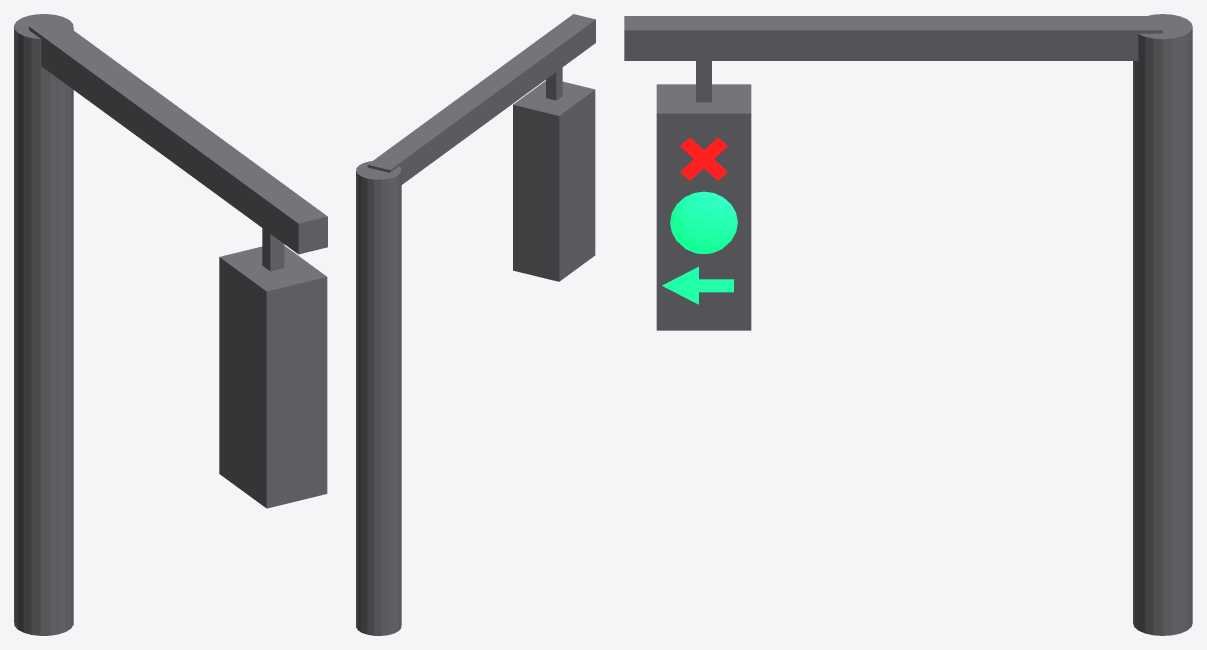
The model's file is traffic_light_l.fbx.
3 views of the same model, side by side, from view 1: azimuth 30°, elevation 25°; view 2: azimuth 150°, elevation 25°; view 3: azimuth 270°, elevation 25° (orthographic). The views are drawn at different scales.
Parts seen in each view (by area): view 1: Semaforo_cuerpo; view 2: Semaforo_cuerpo; view 3: Semaforo_cuerpo, lamp_green, lamp_green_arr.
Boxes of the visible parts, <box> form: Semaforo_cuerpo: <box>14,14,327,635</box>; Semaforo_cuerpo: <box>356,14,595,635</box>; Semaforo_cuerpo: <box>624,14,1192,635</box>; lamp_green: <box>670,191,737,253</box>; lamp_green_arr: <box>662,266,733,304</box>.
Bounding box in the file's own units: 87.57 × 664 × 570.
